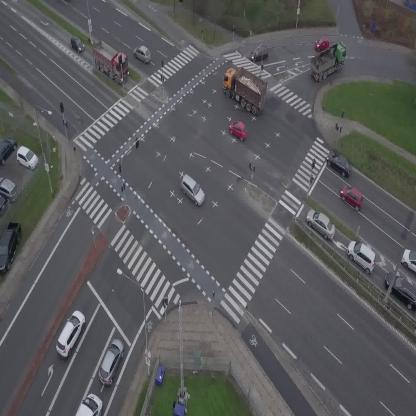car: (51, 308, 89, 359), (94, 336, 128, 387), (341, 236, 384, 276), (302, 205, 341, 242), (175, 173, 210, 207), (322, 149, 356, 179), (336, 182, 368, 211), (226, 117, 252, 142), (131, 42, 155, 66), (66, 34, 87, 56), (401, 249, 416, 273), (250, 46, 269, 61), (315, 37, 330, 51)
lorry: (214, 61, 275, 117), (83, 35, 138, 87), (304, 39, 355, 85), (75, 393, 102, 416)
